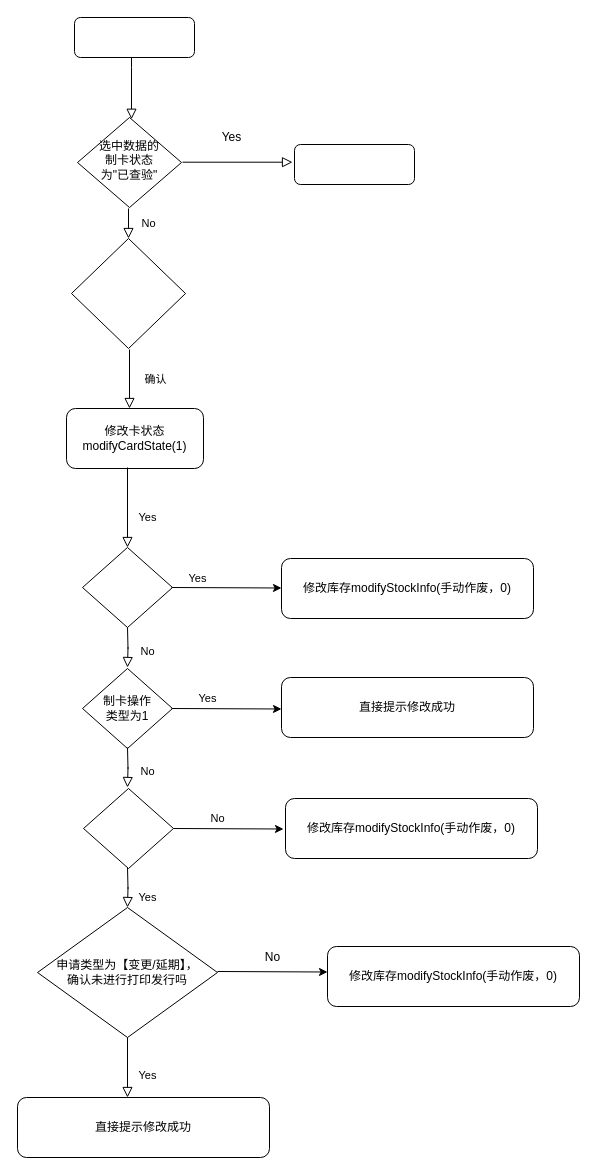
Some shapes in this 597 by 1175 pixel diagram are drawn without their labels. Here are the shapes that lost their labels. From the top down, the centre of each, then its label:
point (134, 37): 修改状态为已查验
point (354, 164): 提示请选择制卡数据状态不是【已查验】
point (128, 293): 确认修改该数据 为【未制卡】状态
point (127, 587): 制卡操作 类型为0
point (128, 828): 申请类型为 【变更/延期】
